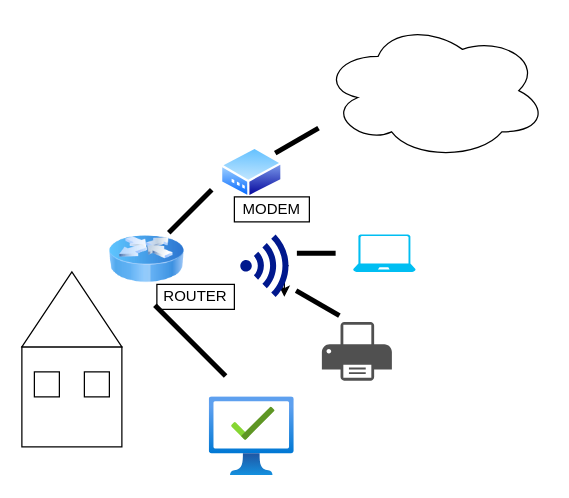
Some shapes in this 569 by 498 pixel diagram are drawn without their labels. Each missing label, with the box of its shape:
INTERNET: (321, 21, 547, 159)
Mackenzie's House: (21, 346, 122, 447)
